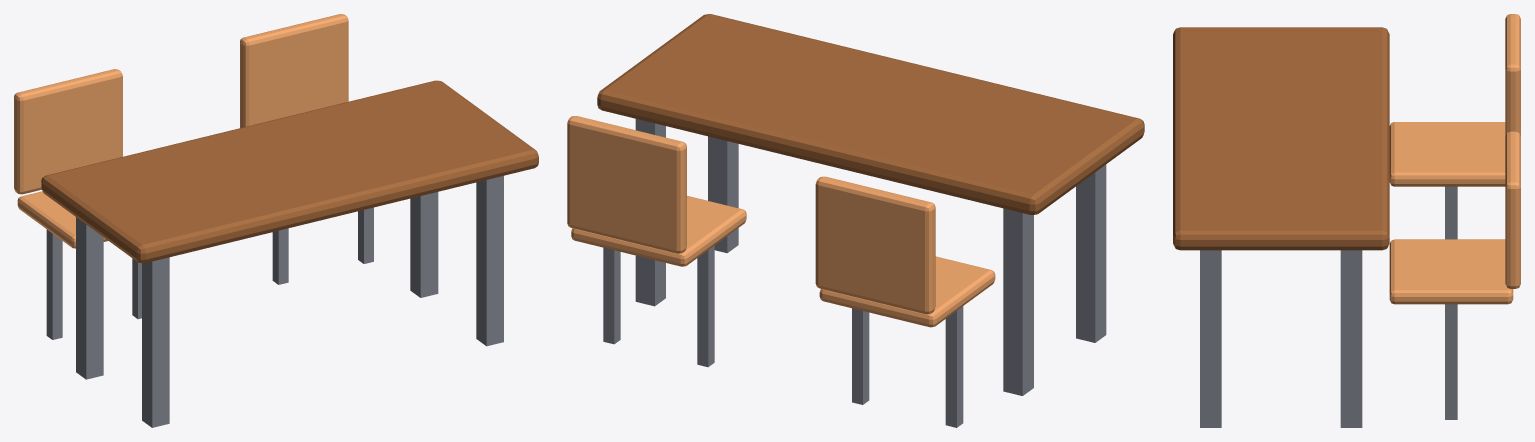
The model's file is int_mejaKuliah.fbx.
3 renders of one model, left to right at view 1: azimuth 30°, elevation 25°; view 2: azimuth 150°, elevation 25°; view 3: azimuth 270°, elevation 25°, orthographic. The views are drawn at different scales.
Visible parts, largest first — view 1: int_mejaKuliah; view 2: int_mejaKuliah; view 3: int_mejaKuliah.
Boxes of the visible parts, bbox=[...] form: int_mejaKuliah: bbox=[14, 14, 538, 427]; int_mejaKuliah: bbox=[567, 14, 1144, 427]; int_mejaKuliah: bbox=[1173, 14, 1520, 427].
Bounding box in the file's own units: 160 × 85 × 112.
1 material, 1 textured.
